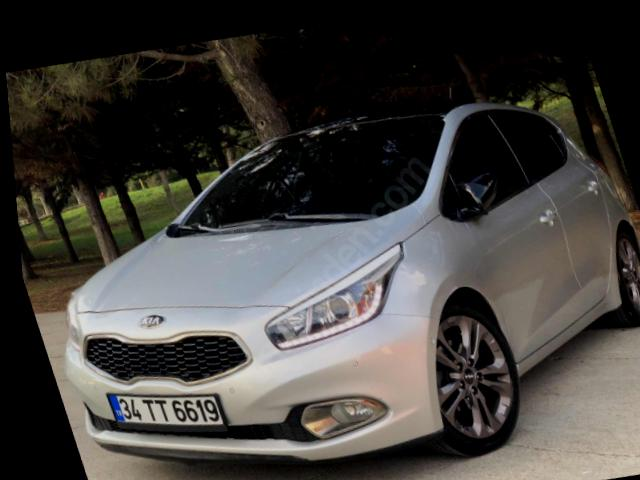plaka: (107, 394, 225, 431)
